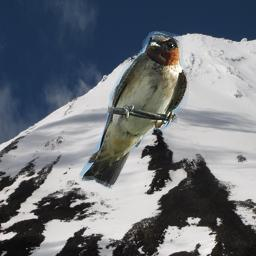Swallow: (78, 31, 189, 189)
